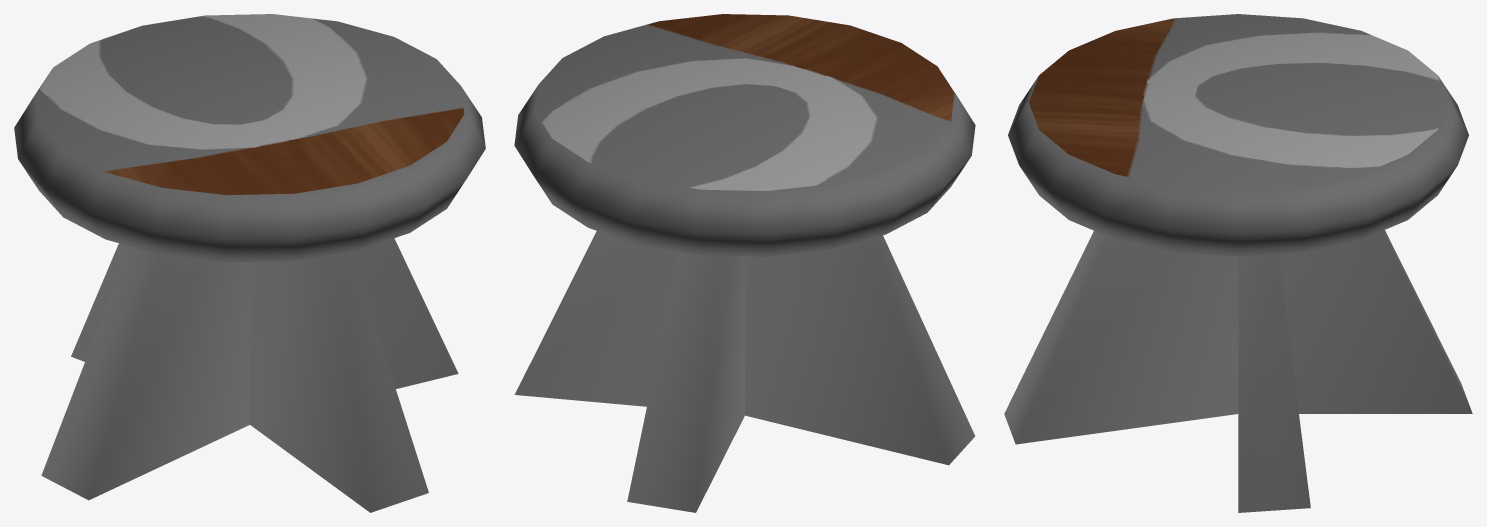
The model's file is Banco.fbx.
The picture shows the model from 3 angles, left to right: view 1: azimuth 30°, elevation 25°; view 2: azimuth 150°, elevation 25°; view 3: azimuth 270°, elevation 25°; orthographic projection. The views are drawn at different scales.
Parts seen in each view (by area): view 1: pCylinder94; view 2: pCylinder94; view 3: pCylinder94.
Boxes of the visible parts, box(x1,y1,x2,y2) form: pCylinder94: box(14, 14, 485, 512); pCylinder94: box(514, 14, 975, 512); pCylinder94: box(1004, 14, 1472, 512).
Bounding box in the file's own units: 31.51 × 23.34 × 31.51.
